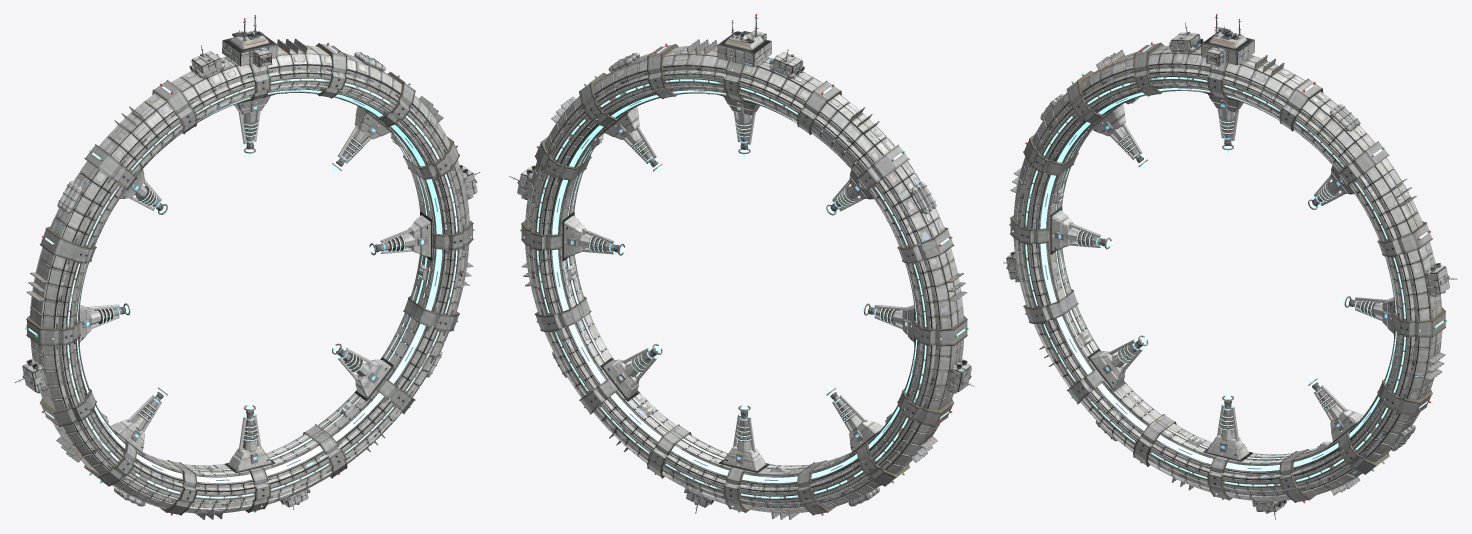
The model's file is jump_gate.glb.
The picture shows the model from 3 angles, left to right: view 1: azimuth 30°, elevation 25°; view 2: azimuth 150°, elevation 25°; view 3: azimuth 330°, elevation 25°; orthographic projection. The views are drawn at different scales.
Visible parts, largest first — view 1: Hull_2, Hull_3, Hull_1, Hull_0, GateEnergy, Lights; view 2: Hull_2, Hull_3, Hull_1, Hull_0, GateEnergy, Lights; view 3: Hull_2, Hull_3, Hull_1, Hull_0, GateEnergy, Lights.
Boxes of the visible parts, left/top/right/bottom form: Hull_2: left=22, top=31, right=477, bottom=519; Hull_3: left=22, top=31, right=474, bottom=513; Hull_1: left=15, top=15, right=480, bottom=519; Hull_0: left=15, top=15, right=479, bottom=509; GateEnergy: left=28, top=46, right=457, bottom=498; Lights: left=14, top=14, right=480, bottom=515; Hull_2: left=517, top=31, right=971, bottom=519; Hull_3: left=517, top=31, right=970, bottom=513; Hull_1: left=509, top=15, right=974, bottom=519; Hull_0: left=510, top=16, right=973, bottom=512; GateEnergy: left=537, top=47, right=965, bottom=498; Lights: left=509, top=14, right=974, bottom=515; Hull_2: left=1006, top=27, right=1449, bottom=511; Hull_3: left=1006, top=31, right=1448, bottom=512; Hull_1: left=1003, top=15, right=1457, bottom=519; Hull_0: left=1004, top=16, right=1456, bottom=518; GateEnergy: left=1025, top=45, right=1443, bottom=486; Lights: left=1003, top=14, right=1457, bottom=519.
Size of the model in its own units: 328 by 343 by 37.22.
Materials: 4 (2 with a texture image).
